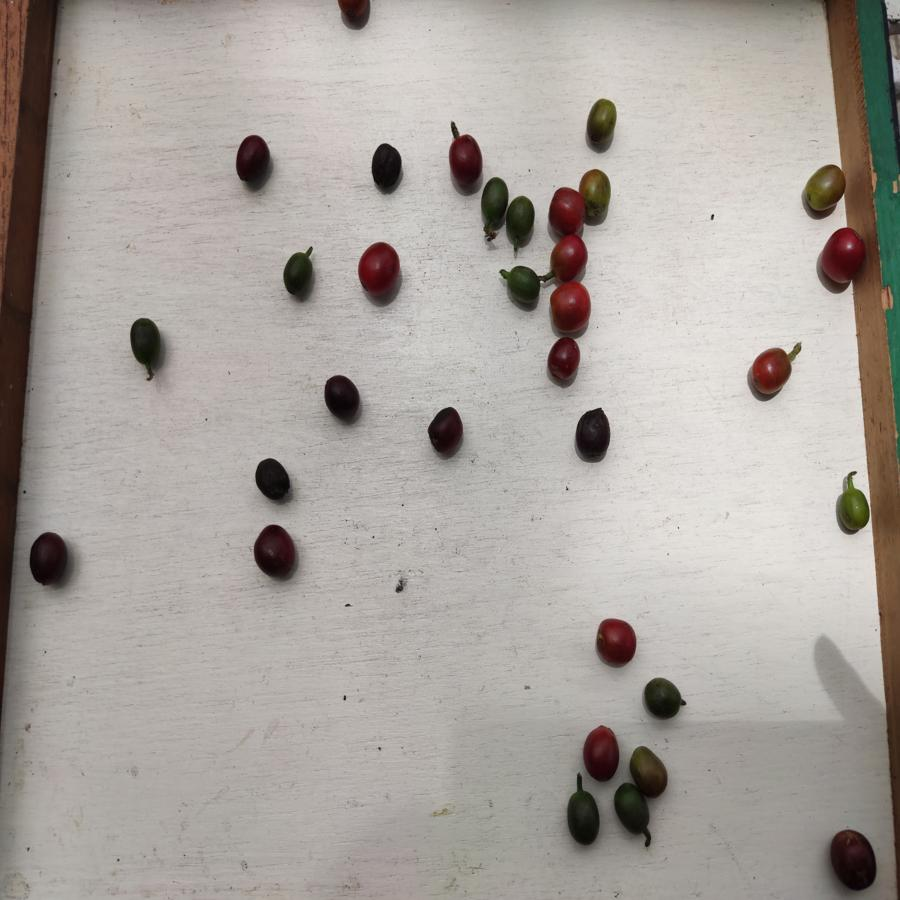Inmaduro: (564, 788, 604, 846), (129, 314, 164, 378), (612, 782, 650, 837), (641, 676, 681, 725), (835, 486, 873, 534), (279, 251, 317, 298), (505, 194, 537, 243), (508, 261, 541, 308), (482, 176, 507, 228)
Maduro: (820, 226, 865, 288), (359, 242, 400, 298), (595, 617, 638, 670), (749, 347, 793, 398), (551, 279, 592, 332), (547, 235, 590, 283), (547, 335, 583, 384), (549, 188, 585, 237)
Pinton: (802, 163, 848, 215), (633, 744, 670, 793), (581, 168, 614, 220), (586, 95, 618, 146)
Sobremaduro: (828, 827, 882, 893), (251, 524, 298, 580), (28, 531, 71, 589), (582, 724, 624, 783), (233, 133, 272, 188), (425, 407, 467, 458), (575, 406, 611, 464), (321, 376, 363, 424), (448, 133, 486, 186), (253, 454, 293, 502), (369, 144, 403, 192)
